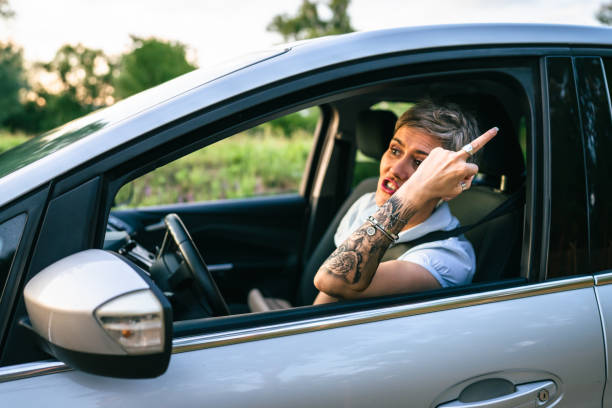insulting_gesture: (417, 125, 499, 197)
